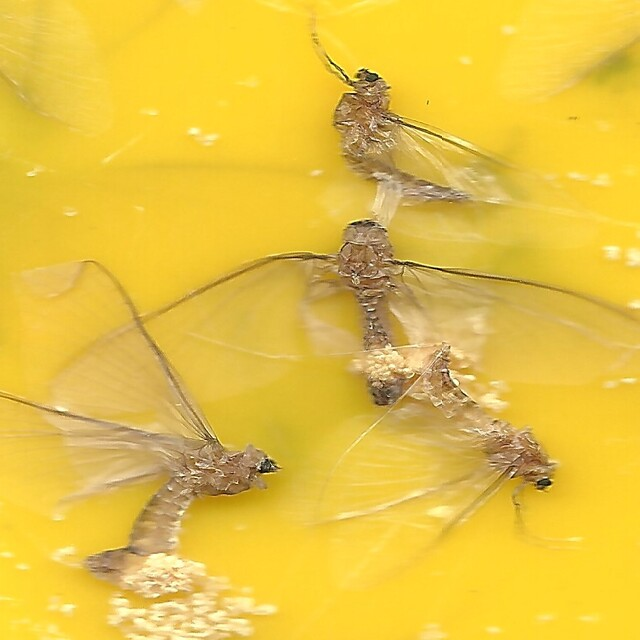Ephemeroptera: (85, 445, 280, 576), (420, 341, 555, 493), (334, 64, 473, 207), (335, 213, 414, 407)
